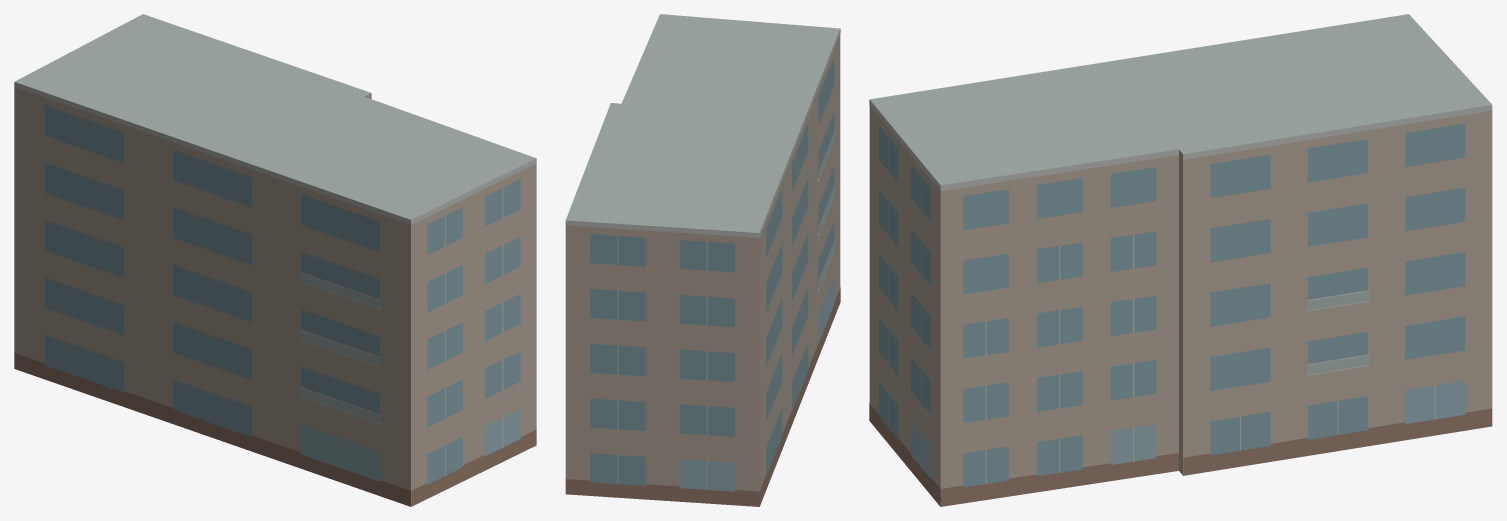
File: survey-upis-32969442.glb
The picture shows the model from 3 angles, left to right: view 1: azimuth 30°, elevation 25°; view 2: azimuth 150°, elevation 25°; view 3: azimuth 270°, elevation 25°; orthographic projection. The views are drawn at different scales.
Visible parts, largest first — view 1: survey-upis-32969442.tmp; view 2: survey-upis-32969442.tmp; view 3: survey-upis-32969442.tmp.
Boxes of the visible parts, x1,y1,x2,y2 form: survey-upis-32969442.tmp: [14, 14, 536, 506]; survey-upis-32969442.tmp: [565, 14, 840, 506]; survey-upis-32969442.tmp: [869, 14, 1492, 506].
Size of the model in its own units: 15.55 by 13.6 by 23.89.
